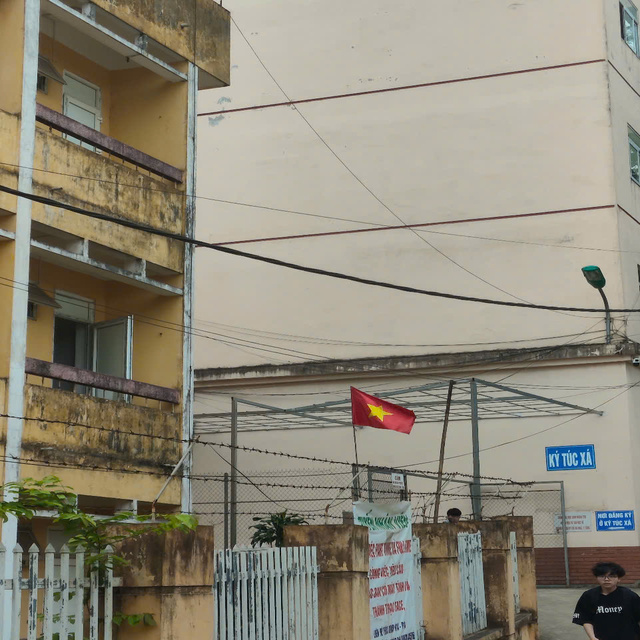laco: (342, 381, 422, 442)
